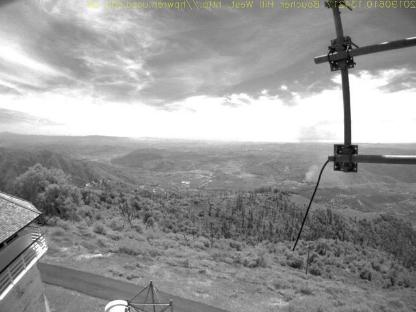smoke: (300, 132, 336, 188)
